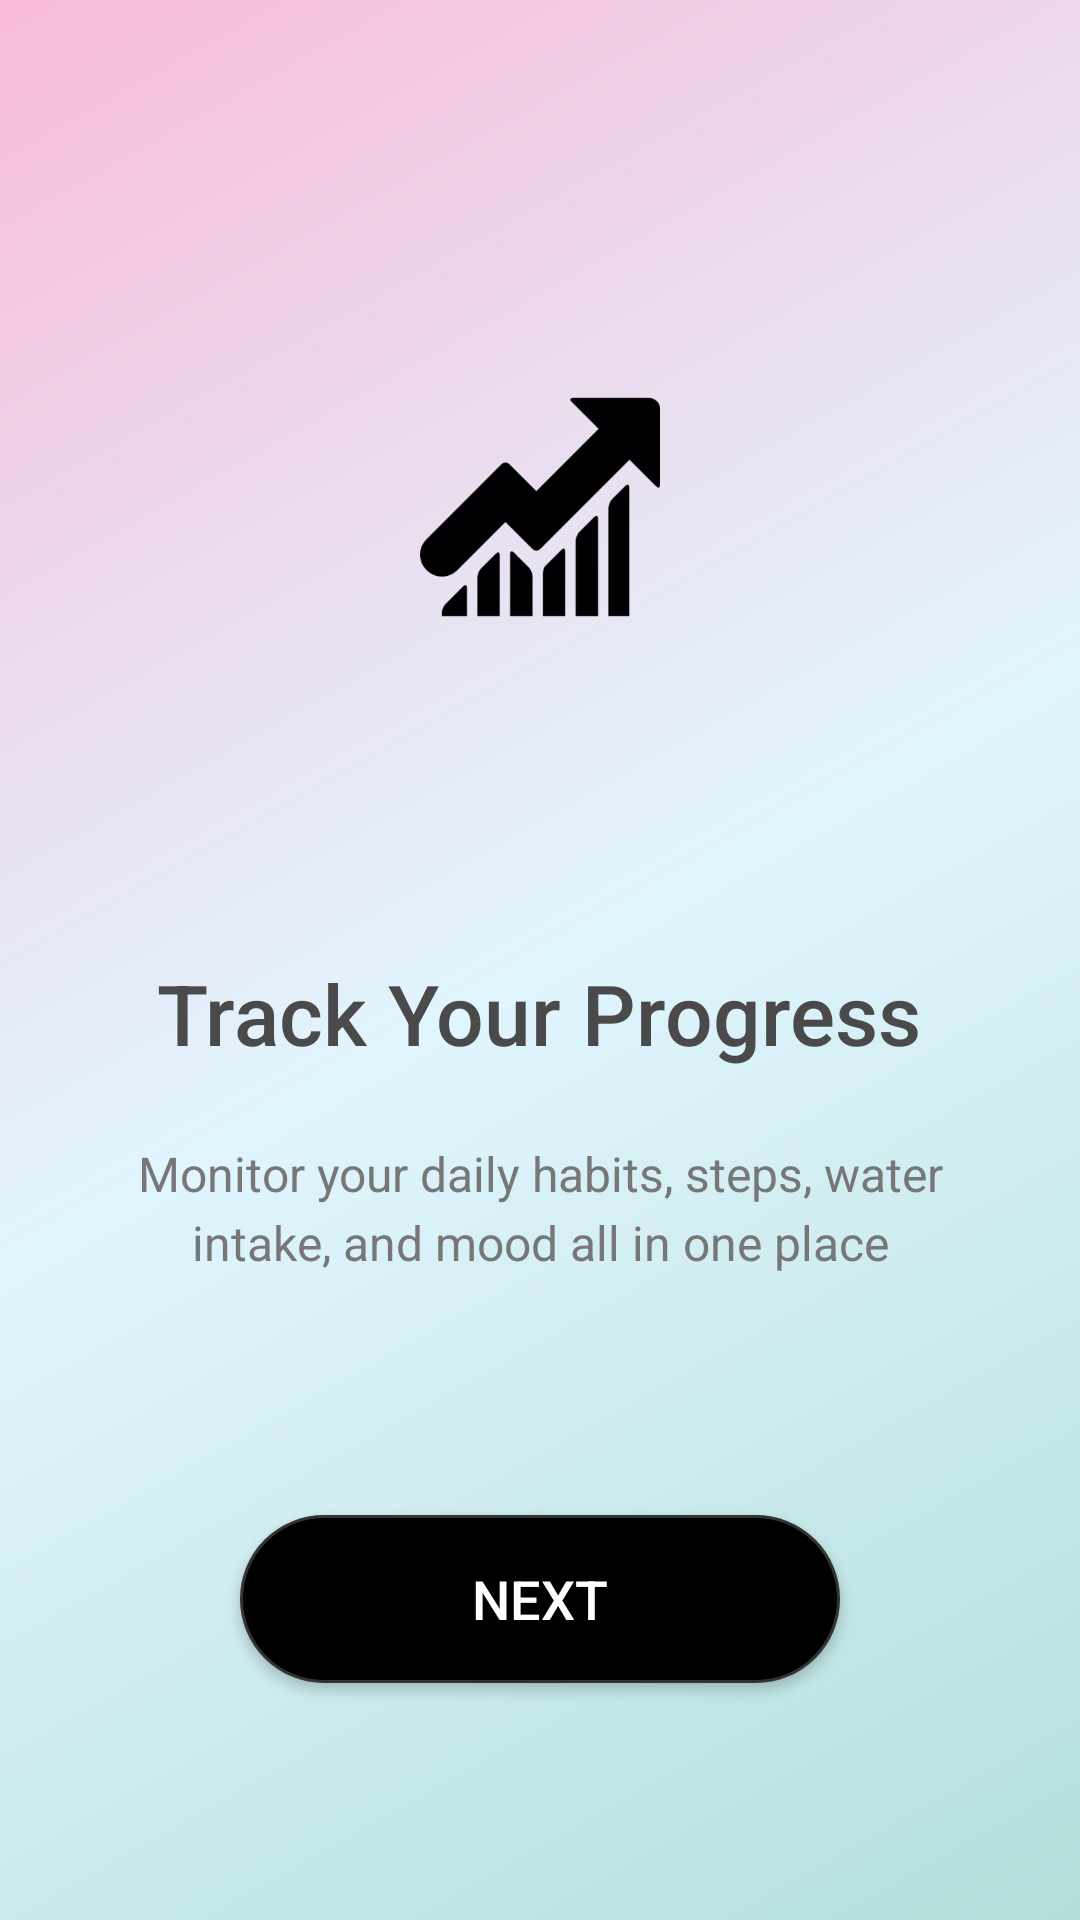

Locate icon controls on the screen. Image size 1080 × 1920, boxes as [x1,y1,x2,y2].
Progress Chart Icon: [420,397,660,617]
